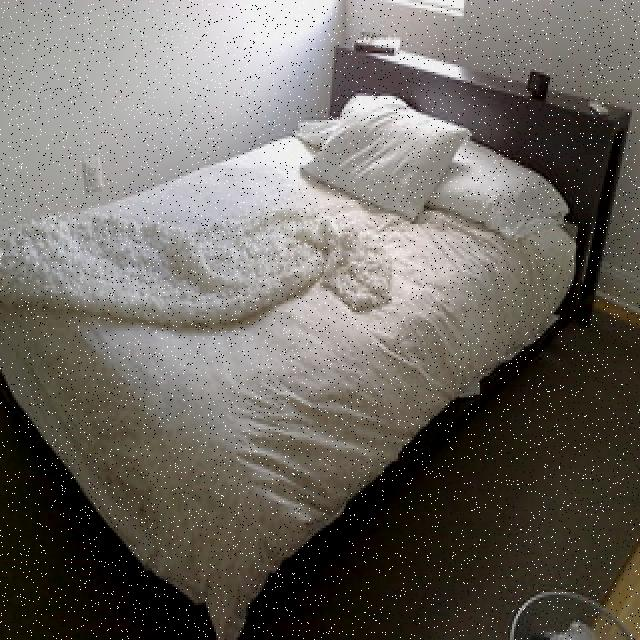bed: (0, 70, 582, 590)
